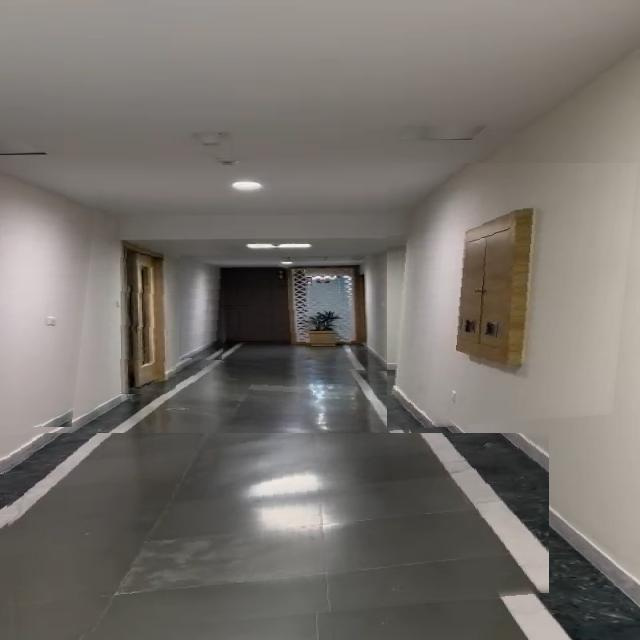door: (120, 240, 180, 394)
floor: (3, 433, 549, 640), (184, 358, 409, 445)
furniture: (281, 298, 351, 355)
wall: (387, 164, 640, 434), (0, 177, 99, 427), (179, 252, 232, 360)
